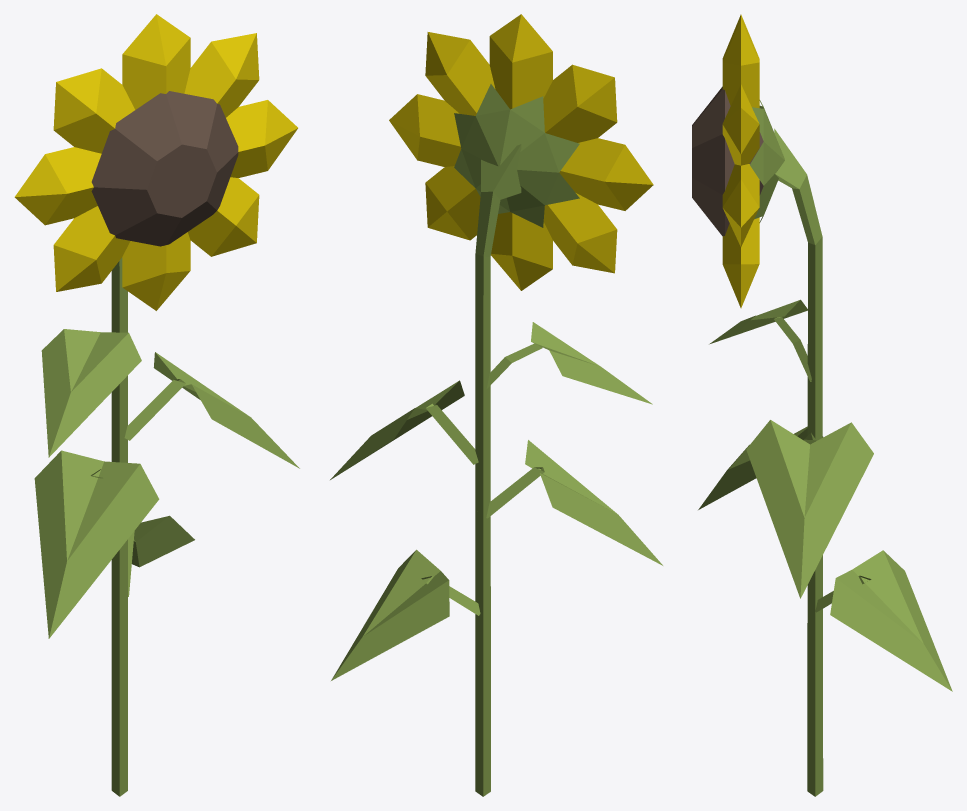
The model's file is flower_02.fbx.
3 views of the same model, side by side, from view 1: azimuth 30°, elevation 25°; view 2: azimuth 150°, elevation 25°; view 3: azimuth 270°, elevation 25° (orthographic). The views are drawn at different scales.
Parts seen in each view (by area): view 1: flower_02; view 2: flower_02; view 3: flower_02.
Boxes of the visible parts, box(x1,y1,x2,y2) form: flower_02: box(14, 14, 299, 796); flower_02: box(330, 14, 662, 796); flower_02: box(692, 14, 952, 796).
Size of the model in its own units: 70.35 by 171 by 52.34.
